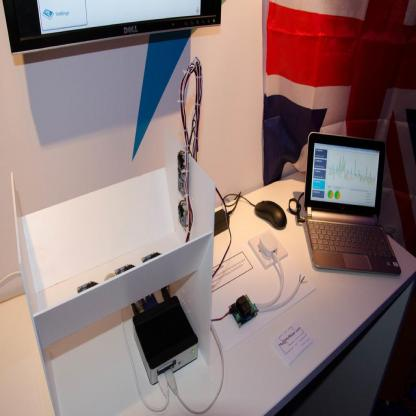board: (301, 132, 402, 280)
